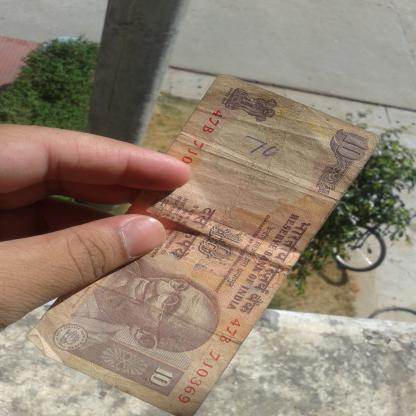Old10Front: (23, 73, 381, 413)
